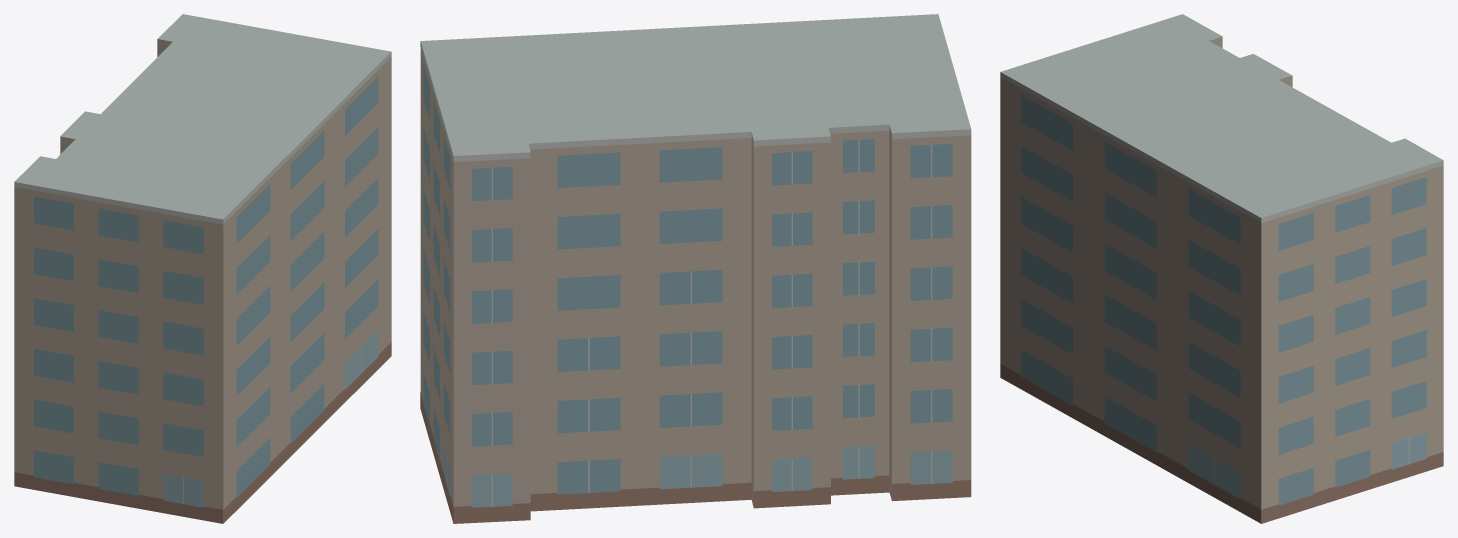
File: survey-upis-33034464.glb
3 views of the same model, side by side, from view 1: azimuth 30°, elevation 25°; view 2: azimuth 150°, elevation 25°; view 3: azimuth 270°, elevation 25° (orthographic). The views are drawn at different scales.
Visible parts, largest first — view 1: survey-upis-33034464.tmp; view 2: survey-upis-33034464.tmp; view 3: survey-upis-33034464.tmp.
Boxes of the visible parts, <box> form: survey-upis-33034464.tmp: <box>14,14,391,523</box>; survey-upis-33034464.tmp: <box>420,14,971,523</box>; survey-upis-33034464.tmp: <box>1000,14,1443,523</box>.
Bounding box in the file's own units: 21.35 × 14.9 × 19.6.
